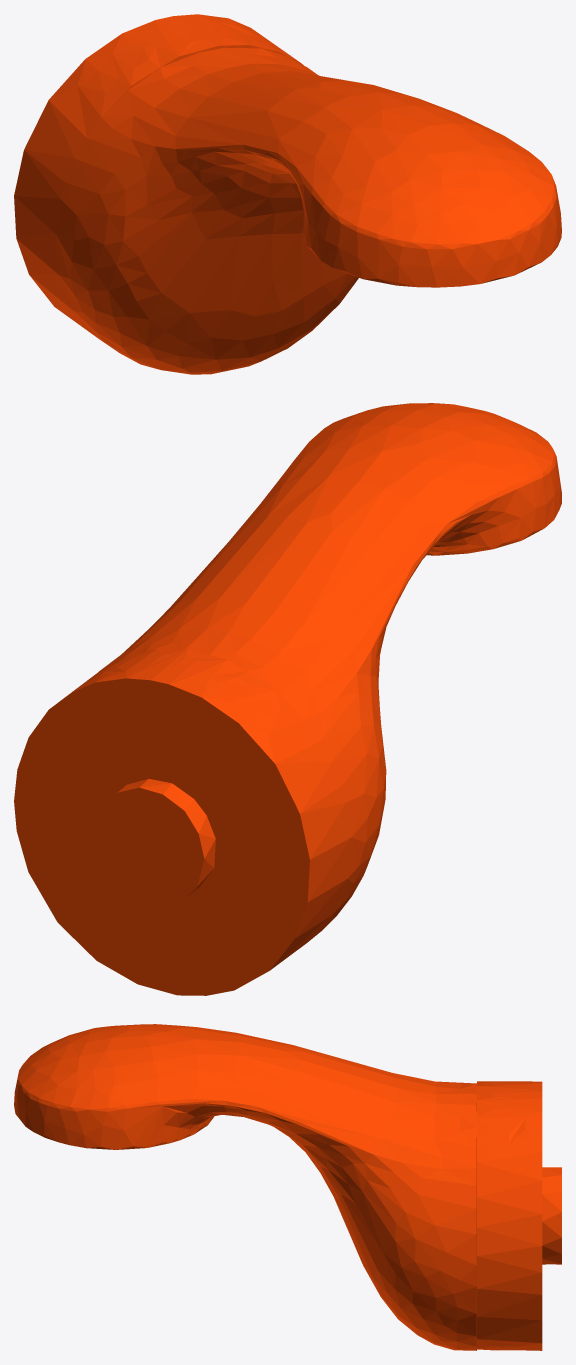
3 renders of one model, top to bottom at view 1: azimuth 30°, elevation 25°; view 2: azimuth 150°, elevation 25°; view 3: azimuth 270°, elevation 25°, orthographic. The views are drawn at different scales.
Parts seen in each view (by area): view 1: Link_5; view 2: Link_5; view 3: Link_5.
Boxes of the visible parts, x1,y1,x2,y2 form: Link_5: (14,14,561,374); Link_5: (14,403,561,995); Link_5: (14,1024,561,1350).
Bounding box in the file's own units: 0.1362 × 0.167 × 0.277.
Materials: 1 (1 with a texture image).
